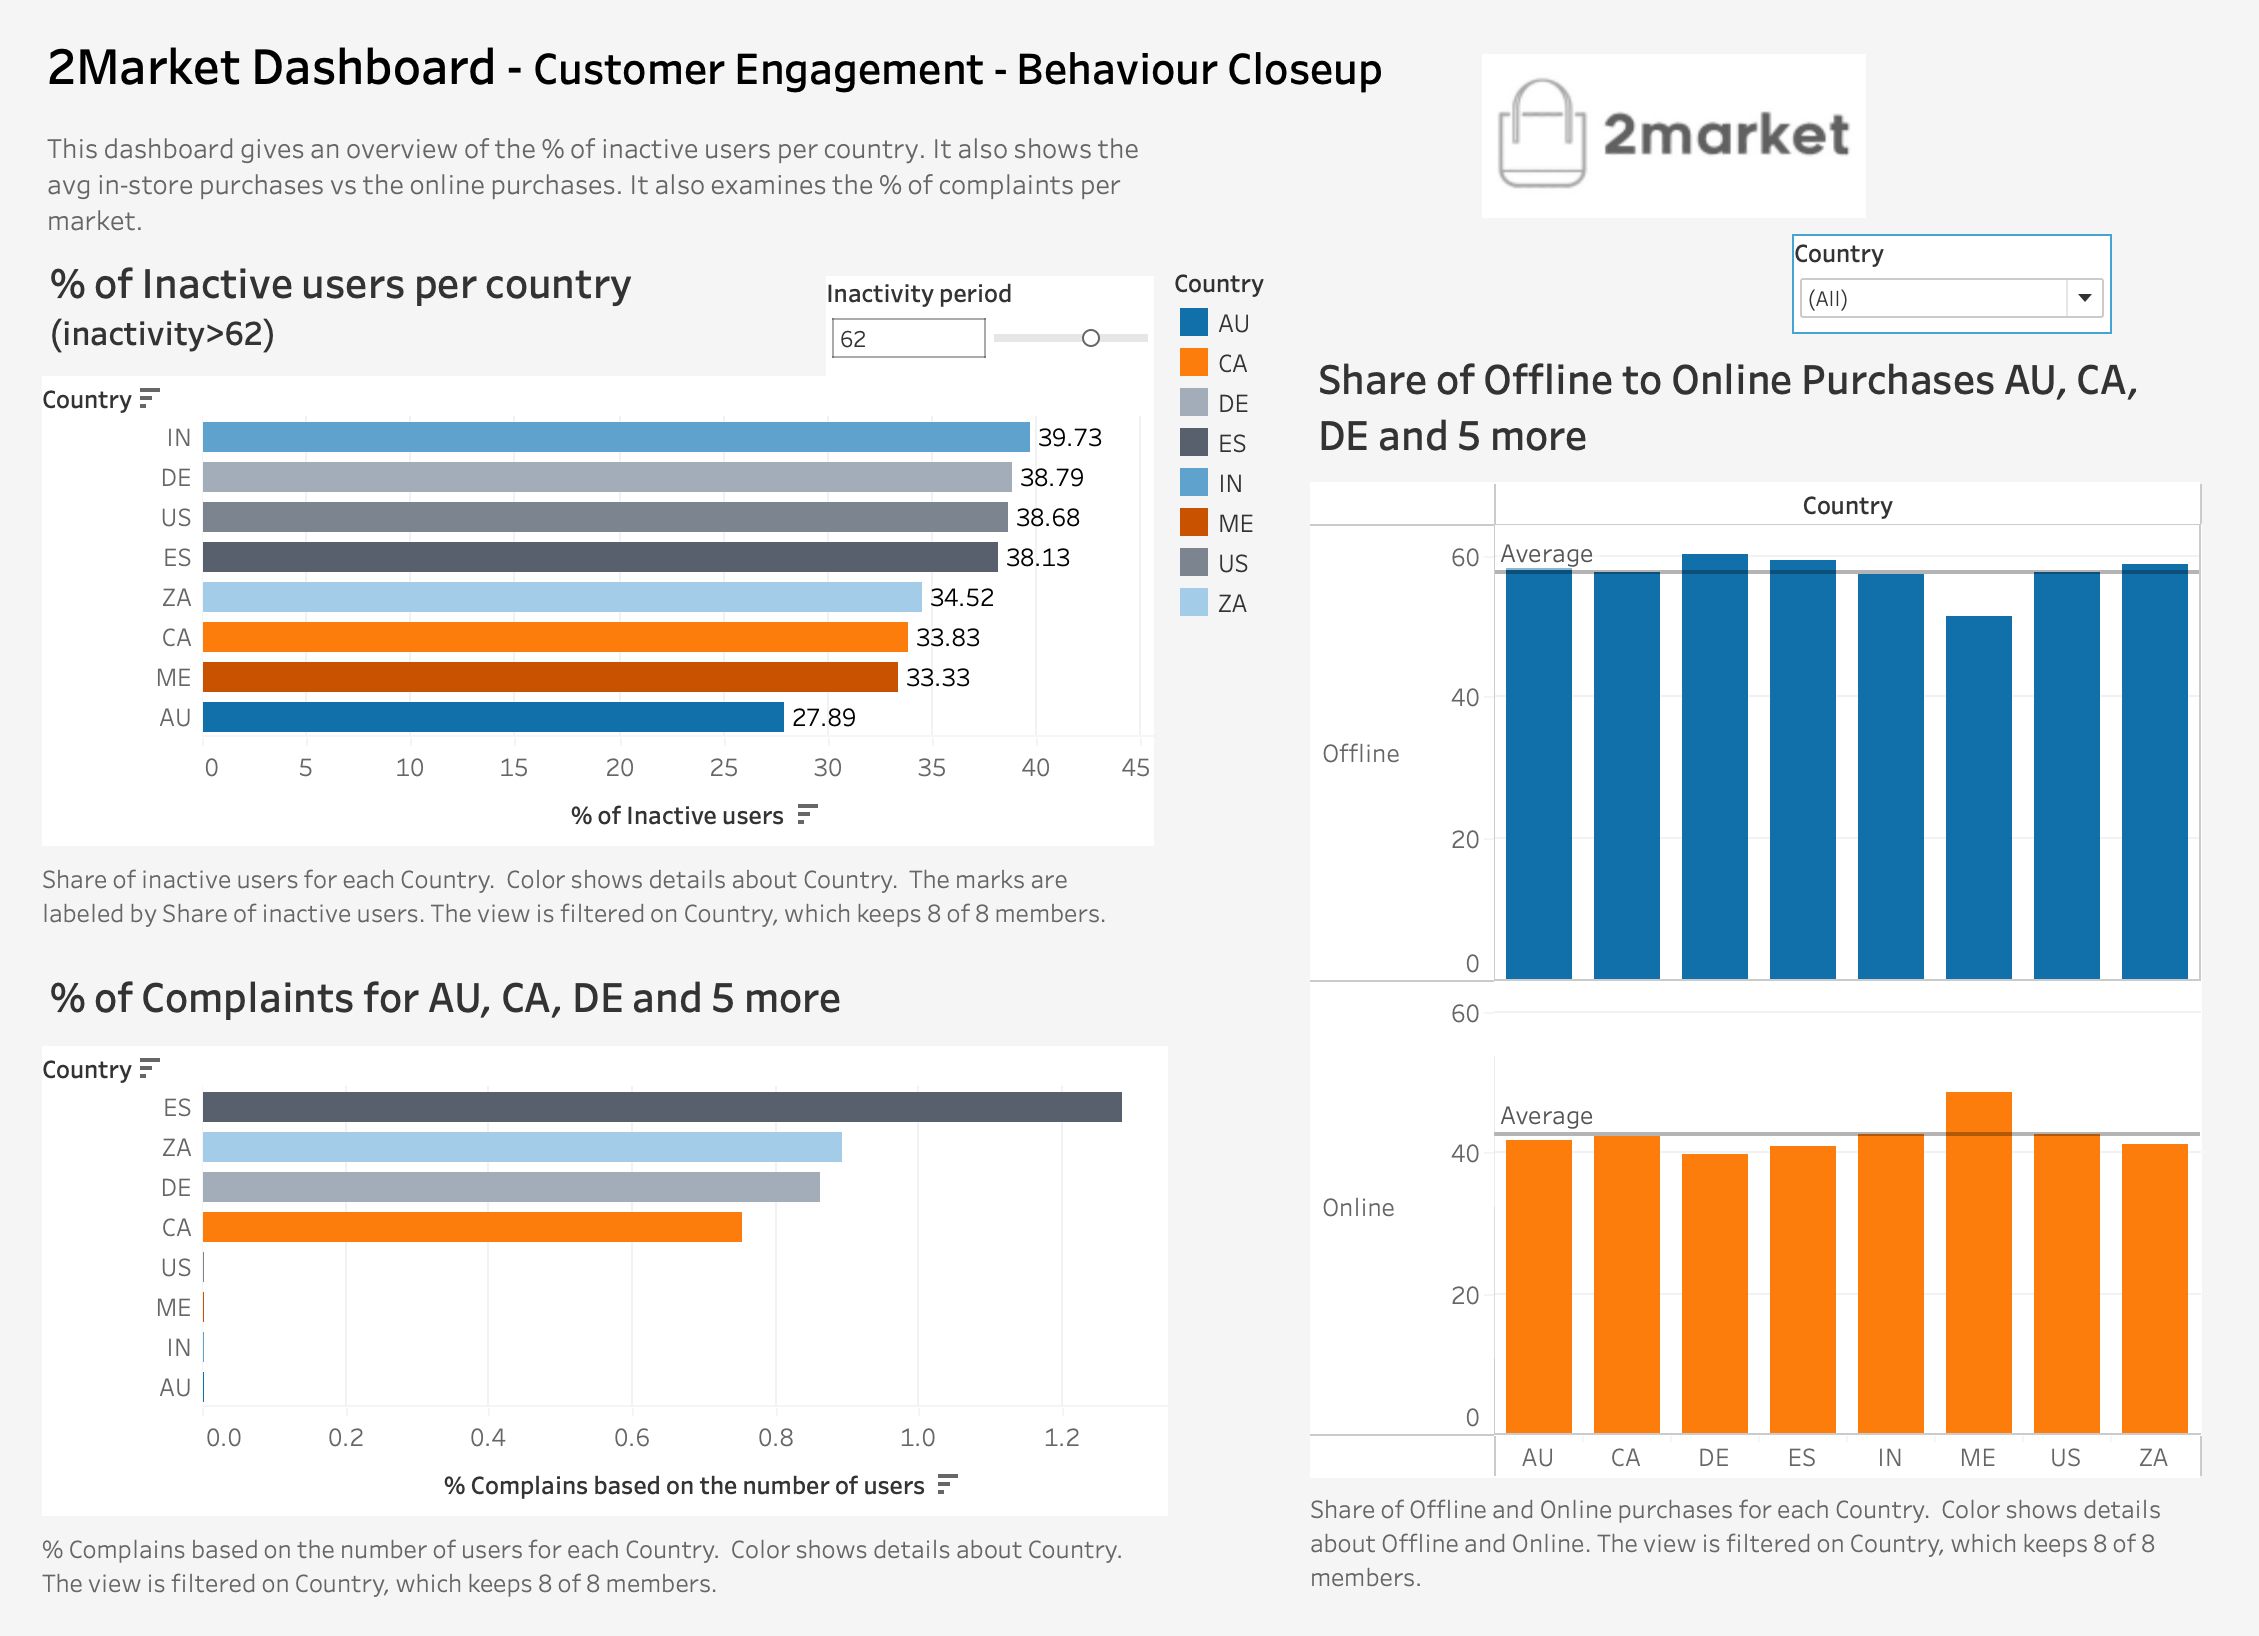

The dashboard page shown, as its layout file describes it:
{"tool":"tableau","page":{"name":"Customer Engagement - Behaviour closeup","canvas":[1024,768],"ordinal":2},"visuals":[{"type":"text","box":[0,0,733,44]},{"type":"image","param":"Image/2Market.jpg","box":[720,17,192,91]},{"type":"text","box":[0,48,572,68]},{"type":"worksheet","title":"Recency","mark":"Automatic","rows":["Country"],"cols":["Calculation_527273063159328772"],"box":[0,113,556,359]},{"type":"legend","title":"Recency","param":"[federated.0b671u406pt3rf18pvn5i0hm06i7].[none:Country:nk]","box":[566,123,47,189]},{"type":"parameter","param":"[Parameters].[Teenhome Parameter]","box":[392,128,164,50]}]}

Visuals, with their boxes on the page's 1024x768 design canvas (x1, y1, x2, y2). These are canvas units, not pixel positions in the 2259x1636 screenshot, which may show the page scaled, cropped or inside an application window:
text: BBox(0, 0, 733, 44)
image: BBox(720, 17, 912, 108)
text: BBox(0, 48, 572, 116)
"Recency" worksheet: BBox(0, 113, 556, 472)
"Recency" legend: BBox(566, 123, 613, 312)
parameter: BBox(392, 128, 556, 178)
